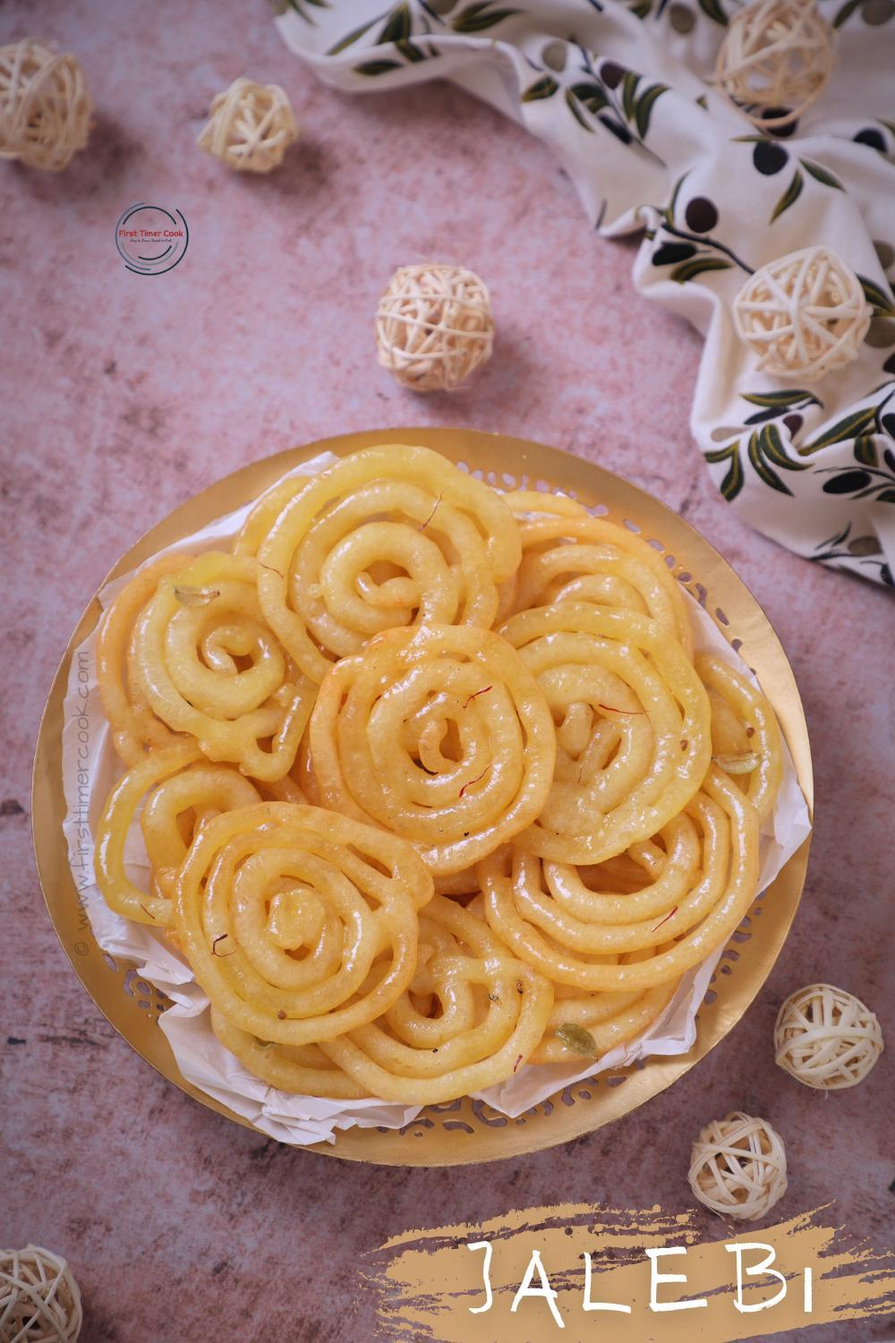jalebi: (45, 468, 779, 1105)
